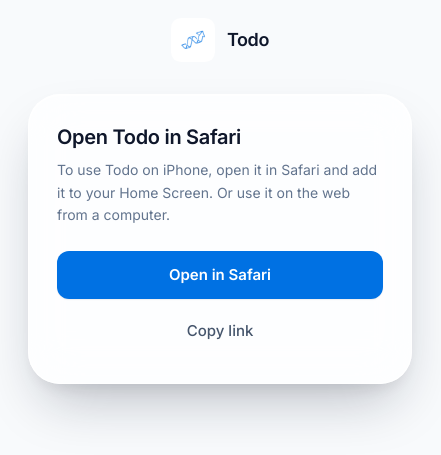
Scenario: The Home Screen gate › in another browser on an iPhone › shows the link to copy by hand when the browser won't copy it
The image size is (441, 455).
Click the button "Copy link" at (220, 331), box 57,307 -> 383,355
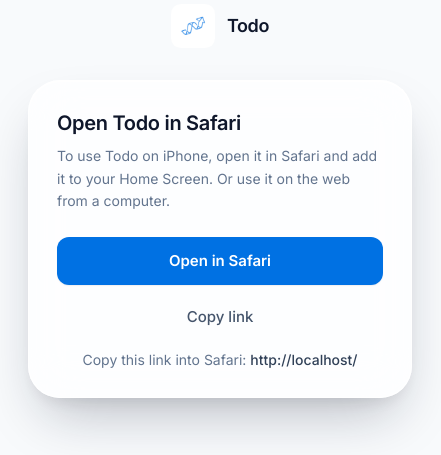
Expected: the text "Copy this link into Safari" is shown, 82,350 -> 250,368
